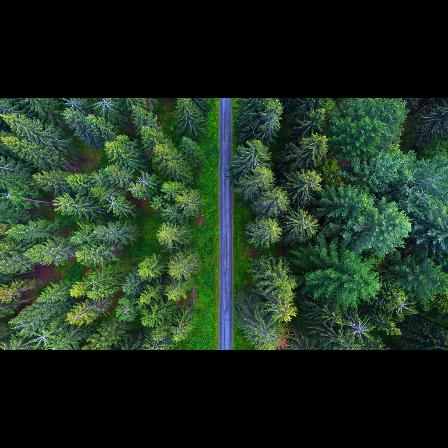Sick: (340, 314, 375, 343), (388, 288, 419, 318), (133, 167, 157, 201), (104, 189, 123, 212), (59, 98, 88, 113), (91, 98, 120, 112)
